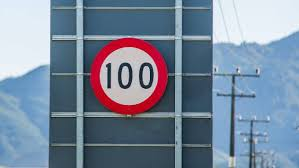Speed_limit_100km: (89, 37, 168, 115)
